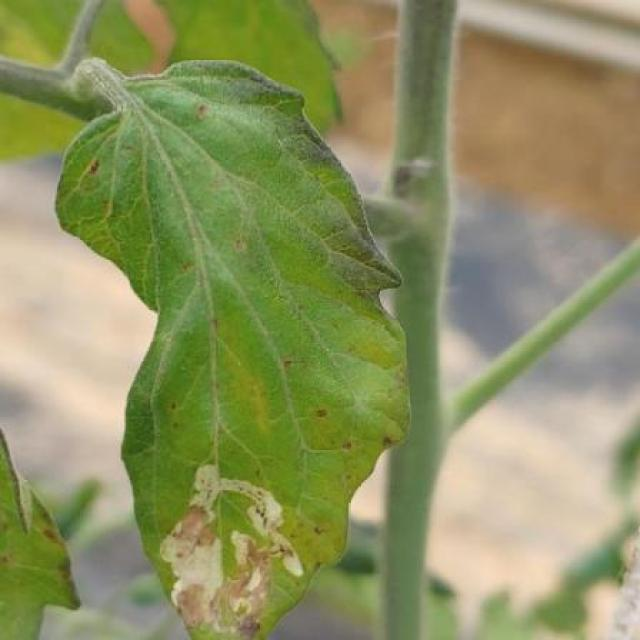Leaf Miner: (57, 64, 410, 639)
